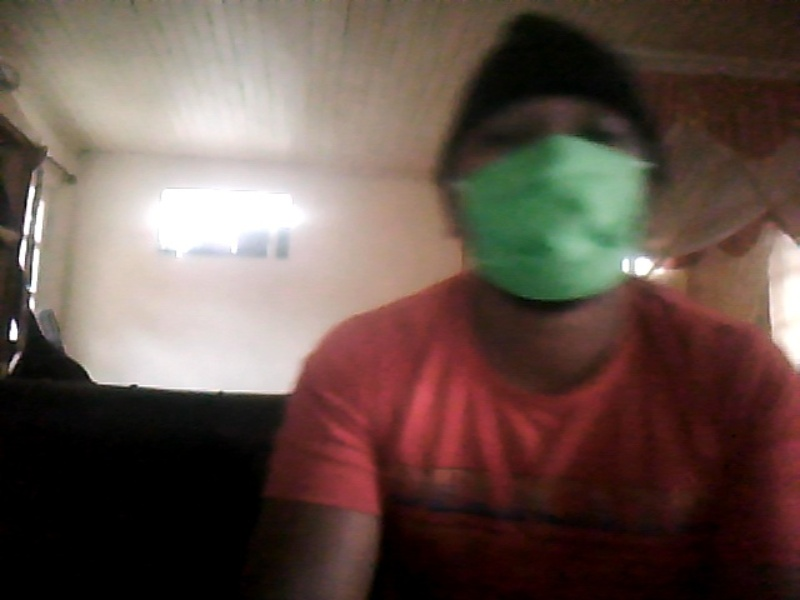ManaoArotava: (433, 18, 681, 315)
